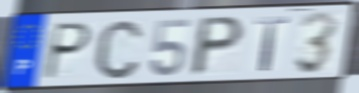3: (293, 9, 343, 76)
5: (148, 17, 192, 78)
C: (93, 17, 145, 82)
P: (187, 14, 247, 78), (40, 21, 95, 82)
T: (254, 15, 290, 73)
